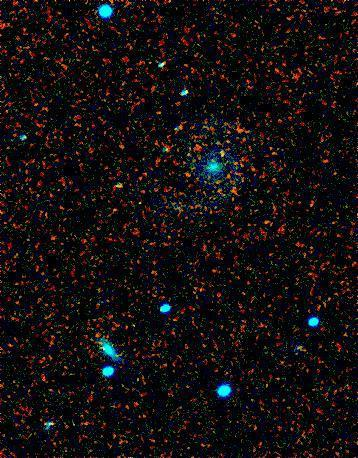star: (207, 140, 237, 170)
